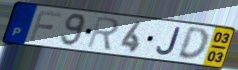4: (118, 20, 144, 55)
9: (59, 13, 87, 48)
D: (175, 27, 209, 63)
F: (27, 9, 63, 42)
J: (155, 26, 182, 57)
R: (85, 15, 121, 52)
